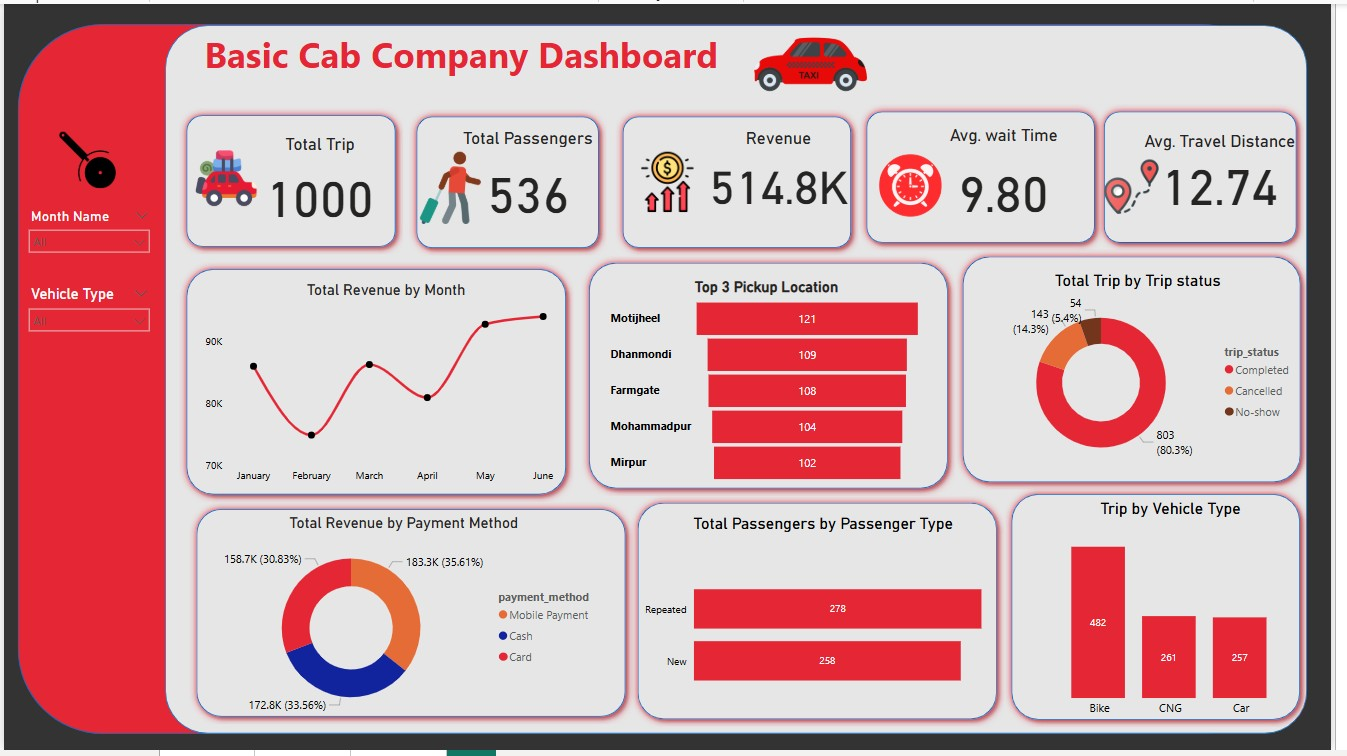

Layout of this report page (visuals, bound fields, positions):
{"tool":"powerbi","page":{"name":"Page 3","canvas":[1600,900],"ordinal":2},"visuals":[{"type":"shape","box":[16.2,23.4,1531.1,856.6],"z":0},{"type":"shape","box":[575.3,164.1,301.2,301.2],"z":0},{"type":"shape","box":[194.8,25.2,1377.8,854.8],"z":1000},{"type":"shape","box":[211,124.4,270.5,176.7],"z":2000},{"type":"shape","box":[488.7,126.2,238.1,176.7],"z":3000},{"type":"shape","box":[737.6,126.2,294,176.7],"z":4000},{"type":"shape","box":[1031.6,120.8,294,176.7],"z":5000},{"type":"shape","box":[1206.5,582.5,366.1,290.4],"z":6000},{"type":"shape","box":[1147,295.8,425.6,290.4],"z":7000},{"type":"shape","box":[223.6,600.5,535.6,268.7],"z":7002},{"type":"shape","box":[696.1,303,450.9,290.4],"z":7003},{"type":"shape","box":[755.6,593.3,450.9,279.5],"z":7004},{"type":"funnel","title":"Top 3 Pickup Location","fields":{"Category":["dhaka_trip_data_jan_june_2024.pickup_location"],"Y":["_Measure_Table (2).Total Passengers"]},"box":[726.8,330,385.9,252.5],"z":7005},{"type":"clusteredColumnChart","title":"Trip by Vehicle Type","fields":{"Category":["dhaka_trip_data_jan_june_2024.vehicle_type"],"Y":["CountNonNull(dhaka_trip_data_jan_june_2024.trip_id)"]},"box":[1248,596.9,317.4,272.3],"z":7006},{"type":"shape","box":[211,310.2,476.1,290.4],"z":7007},{"type":"lineChart","fields":{"Category":["dhaka_trip_data_jan_june_2024.date.Variation.Date Hierarchy.Month"],"Y":["_Measure_Table (2).Total Revenue"]},"box":[238.1,335.4,445.5,252.5],"z":7008},{"type":"barChart","title":"Total Passengers by Passenger Type","fields":{"Y":["_Measure_Table (2).Total Passengers"],"Category":["dhaka_trip_data_jan_june_2024.passenger_type"]},"box":[764.7,615,447.3,265.1],"z":7009},{"type":"donutChart","title":"Total Trip by Trip status","fields":{"Category":["dhaka_trip_data_jan_june_2024.trip_status"],"Y":["_Measure_Table (2).Total_Trip"]},"box":[1170.4,322.8,395,247.1],"z":7010},{"type":"donutChart","title":"Total Revenue by Payment Method","fields":{"Category":["dhaka_trip_data_jan_june_2024.payment_method"],"Y":["_Measure_Table (2).Total Revenue"]},"box":[236.3,615,490.5,254.3],"z":7011},{"type":"card","title":"Total Trip","fields":{"Values":["_Measure_Table (2).Total_Trip"]},"box":[272.3,156.9,216.4,119],"z":7012},{"type":"shape","box":[1318.3,120.8,250.7,176.7],"z":7013},{"type":"card","title":"Total Passengers","fields":{"Values":["_Measure_Table (2).Total Passengers"]},"box":[539.2,149.7,184,124.4],"z":7014},{"type":"card","title":"Revenue","fields":{"Values":["_Measure_Table (2).Total Revenue"]},"box":[836.8,149.7,194.8,108.2],"z":7015},{"type":"card","title":"Avg. wait Time","fields":{"Values":["_Measure_Table (2).Average wait Time Before Pickup"]},"box":[1092.9,146.1,225.4,128],"z":7016},{"type":"card","title":"Avg. Travel Distance","fields":{"Values":["_Measure_Table (2).Average Travel Distance"]},"box":[1368.8,153.3,194.8,95.6],"z":7017},{"type":"textbox","box":[236.3,25.2,663.7,101],"z":7018},{"type":"slicer","fields":{"Values":["dhaka_trip_data_jan_june_2024.Month Name"]},"box":[19.8,241.7,165.9,81.2],"z":7019},{"type":"slicer","fields":{"Values":["dhaka_trip_data_jan_june_2024.vehicle_type"]},"box":[19.8,335.4,165.9,77.5],"z":7020},{"type":"image","box":[223.6,160.5,90.2,101],"z":7021},{"type":"image","box":[490.5,173.1,97.4,97.4],"z":7022},{"type":"image","box":[1051.4,174.9,84.8,88.4],"z":7023},{"type":"image","box":[1321.9,178.5,75.7,84.8],"z":7024},{"type":"image","box":[750.2,173.1,101,83],"z":7025},{"type":"image","box":[59.5,149.7,84.8,77.5],"z":7026},{"type":"image","box":[899.9,0,146.1,146.1],"z":7027}]}

Visuals, with their boxes on the page's 1600x900 design canvas (x1, y1, x2, y2). These are canvas units, not pixel positions in the 1347x756 screenshot, which may show the page scaled, cropped or inside an application window:
shape: [left=16, top=23, right=1547, bottom=880]
shape: [left=575, top=164, right=876, bottom=465]
shape: [left=195, top=25, right=1573, bottom=880]
shape: [left=211, top=124, right=482, bottom=301]
shape: [left=489, top=126, right=727, bottom=303]
shape: [left=738, top=126, right=1032, bottom=303]
shape: [left=1032, top=121, right=1326, bottom=298]
shape: [left=1206, top=582, right=1573, bottom=873]
shape: [left=1147, top=296, right=1573, bottom=586]
shape: [left=224, top=600, right=759, bottom=869]
shape: [left=696, top=303, right=1147, bottom=593]
shape: [left=756, top=593, right=1206, bottom=873]
"Top 3 Pickup Location" funnel: [left=727, top=330, right=1113, bottom=582]
"Trip by Vehicle Type" clusteredColumnChart: [left=1248, top=597, right=1565, bottom=869]
shape: [left=211, top=310, right=687, bottom=601]
lineChart - dhaka_trip_data_jan_june_2024.date.Variation.Date Hierarchy.Month x _Measure_Table (2).Total Revenue: [left=238, top=335, right=684, bottom=588]
"Total Passengers by Passenger Type" barChart: [left=765, top=615, right=1212, bottom=880]
"Total Trip by Trip status" donutChart: [left=1170, top=323, right=1565, bottom=570]
"Total Revenue by Payment Method" donutChart: [left=236, top=615, right=727, bottom=869]
"Total Trip" card: [left=272, top=157, right=489, bottom=276]
shape: [left=1318, top=121, right=1569, bottom=298]
"Total Passengers" card: [left=539, top=150, right=723, bottom=274]
"Revenue" card: [left=837, top=150, right=1032, bottom=258]
"Avg. wait Time" card: [left=1093, top=146, right=1318, bottom=274]
"Avg. Travel Distance" card: [left=1369, top=153, right=1564, bottom=249]
textbox: [left=236, top=25, right=900, bottom=126]
slicer - dhaka_trip_data_jan_june_2024.Month Name: [left=20, top=242, right=186, bottom=323]
slicer - dhaka_trip_data_jan_june_2024.vehicle_type: [left=20, top=335, right=186, bottom=413]
image: [left=224, top=160, right=314, bottom=262]
image: [left=490, top=173, right=588, bottom=270]
image: [left=1051, top=175, right=1136, bottom=263]
image: [left=1322, top=178, right=1398, bottom=263]
image: [left=750, top=173, right=851, bottom=256]
image: [left=60, top=150, right=144, bottom=227]
image: [left=900, top=0, right=1046, bottom=146]
